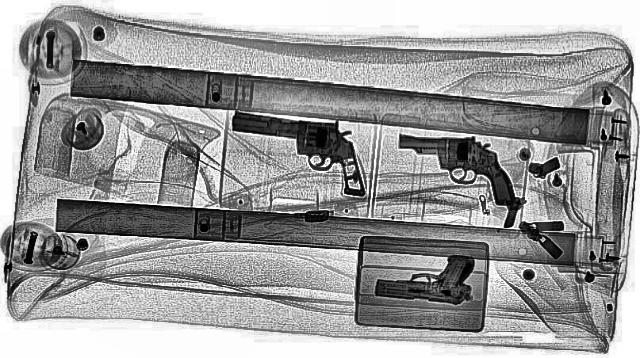Gun: (206, 110, 390, 194), (395, 134, 511, 206), (369, 246, 485, 306)
